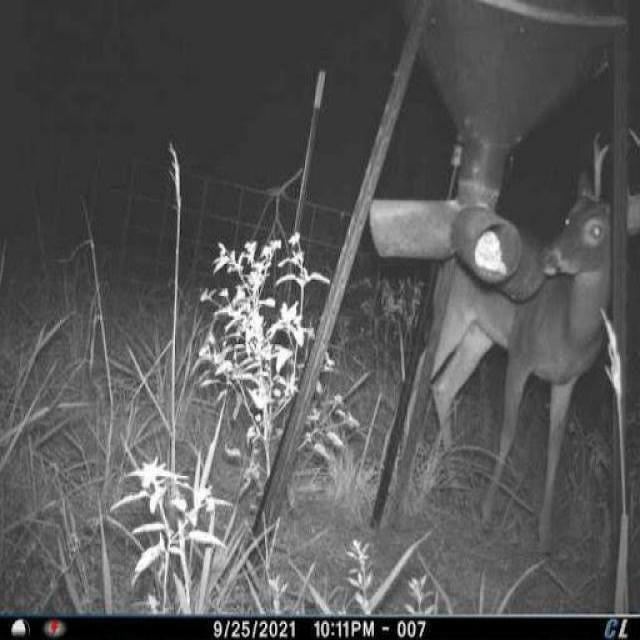deer: (409, 119, 640, 566)
